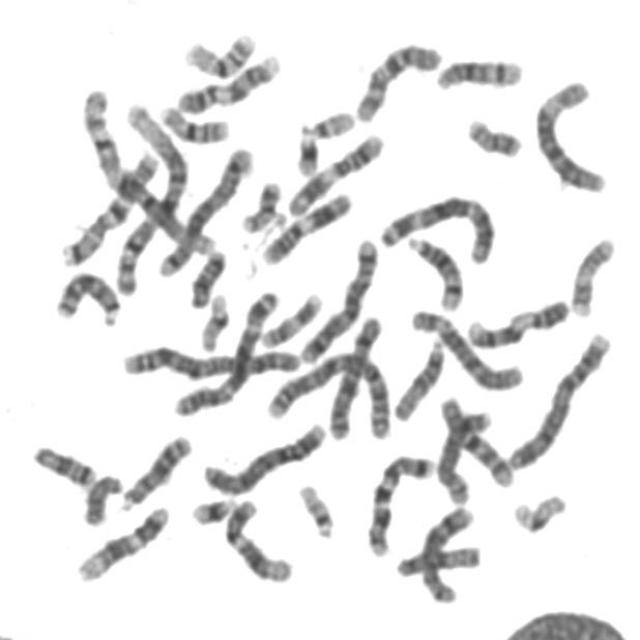A1: (74, 81, 218, 268), (104, 93, 192, 294)
A2: (260, 345, 396, 441), (116, 336, 303, 383)
A3: (169, 283, 283, 417), (373, 188, 499, 266)
B4: (501, 324, 615, 474), (197, 414, 330, 497)
B5: (151, 138, 257, 280), (294, 229, 382, 366)
C10: (349, 34, 445, 124), (434, 388, 518, 490)
C11: (281, 124, 387, 220), (256, 183, 355, 267)
C12: (70, 498, 173, 585), (219, 492, 296, 586)
C6: (405, 300, 527, 392), (528, 72, 610, 194)
C7: (54, 144, 160, 268), (360, 446, 438, 558)
C8: (414, 498, 478, 607), (430, 403, 496, 507)
C9: (170, 46, 284, 116), (462, 290, 574, 350)
D13: (114, 427, 194, 512), (49, 263, 124, 328)
D14: (402, 228, 466, 313), (430, 49, 527, 92)
D15: (388, 332, 448, 422), (389, 538, 484, 579)
E16: (177, 23, 260, 79), (153, 97, 232, 144)
E17: (564, 230, 618, 320), (255, 285, 325, 349)
E18: (26, 437, 98, 489), (183, 243, 230, 309)
F19: (506, 484, 570, 534), (194, 285, 233, 354)
F20: (461, 109, 526, 160), (236, 173, 286, 234)
G21: (184, 488, 238, 527), (290, 121, 322, 177)
G22: (292, 476, 338, 540), (298, 102, 358, 140)
X: (323, 307, 386, 443)
Y: (77, 466, 126, 528)
